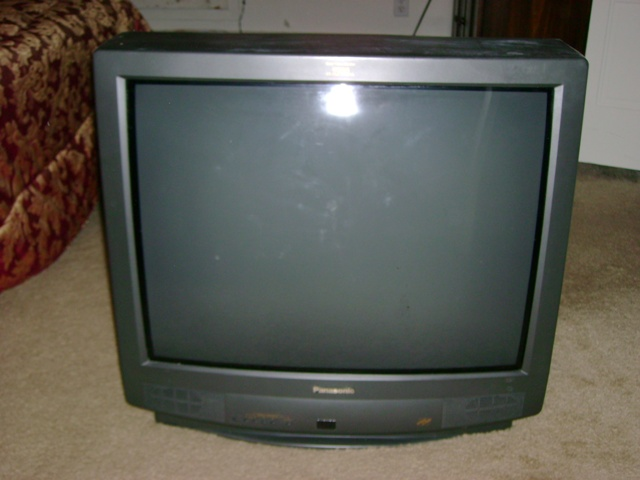tv monitor: (91, 35, 592, 452)
